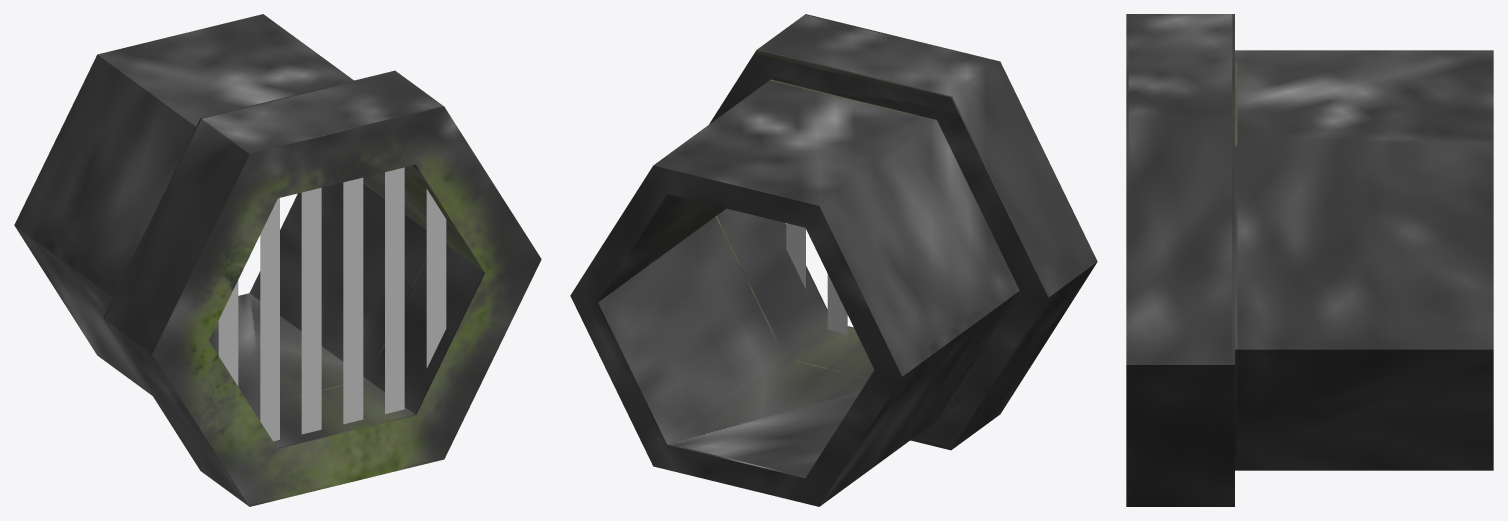
File: caño vertedero .fbx
The picture shows the model from 3 angles, left to right: view 1: azimuth 30°, elevation 25°; view 2: azimuth 150°, elevation 25°; view 3: azimuth 270°, elevation 25°; orthographic projection. The views are drawn at different scales.
Parts seen in each view (by area): view 1: Cylinder, Plane; view 2: Cylinder, Plane; view 3: Cylinder.
Boxes of the visible parts, box(x1,y1,x2,y2) form: Cylinder: box(14, 14, 541, 506); Plane: box(218, 167, 446, 441); Cylinder: box(570, 14, 1097, 506); Plane: box(786, 223, 847, 334); Cylinder: box(1126, 14, 1493, 506).
Bounding box in the file's own units: 3.04 × 2.63 × 2.25.
